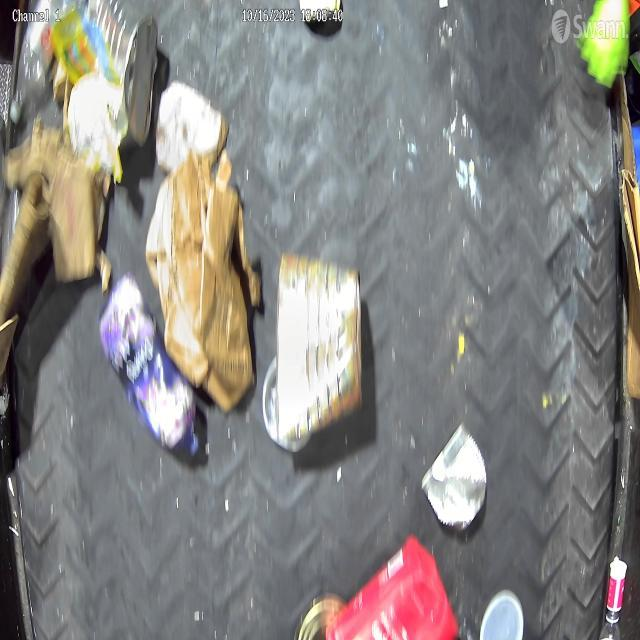can: (424, 421, 488, 530)
plastic_bottle: (15, 0, 64, 121)
